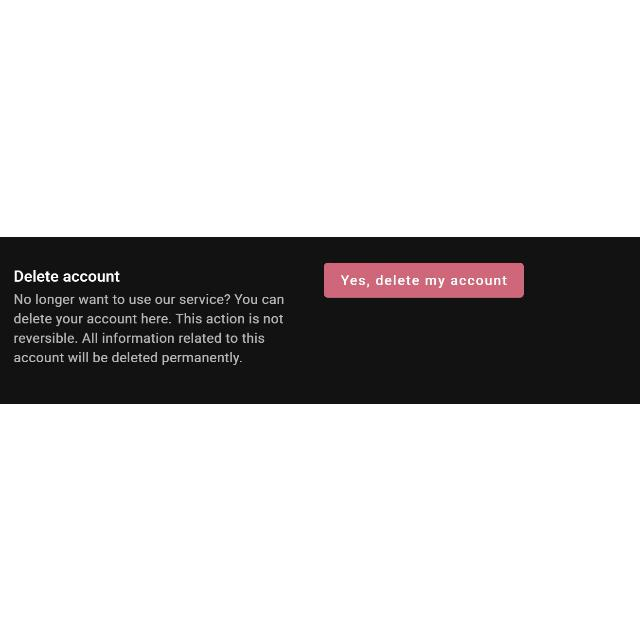QLabel: (12, 292, 288, 366), (340, 273, 510, 289), (12, 268, 122, 282)
VBtn: (323, 261, 524, 299)
